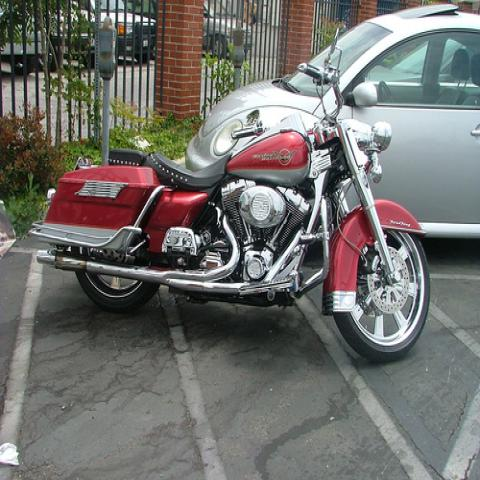car: (181, 5, 479, 236), (0, 3, 99, 74), (101, 11, 158, 66), (204, 4, 253, 62)
motorcycle: (33, 27, 432, 356)
